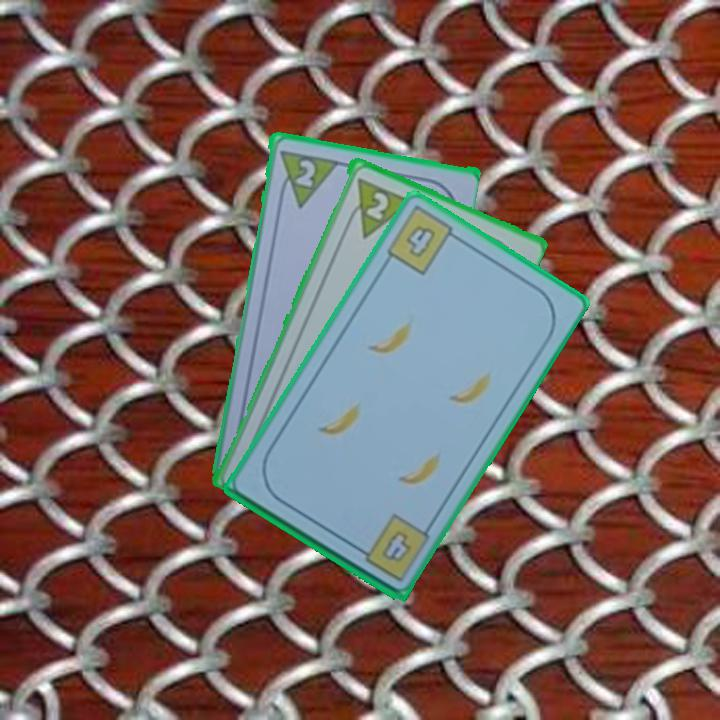2p: (362, 187, 392, 223), (291, 155, 319, 190)
4b: (382, 203, 464, 279), (378, 526, 414, 565)
